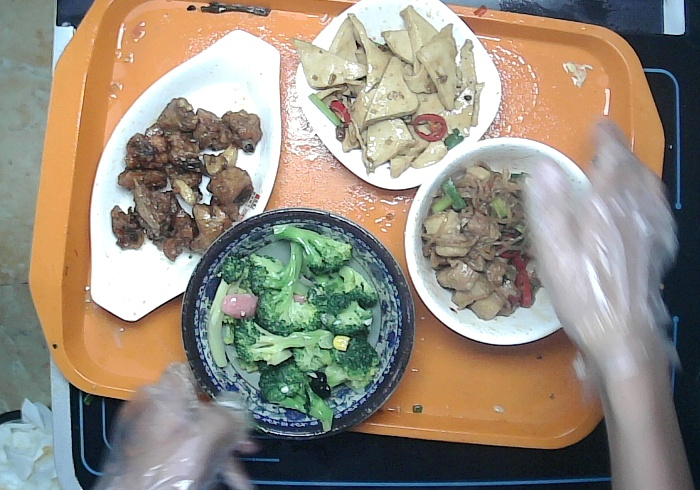ZNLD-Qing_Hua_Wan: (173, 202, 421, 445)
ZNLD-Si_Fang_Wan: (290, 1, 506, 200)
ZNLD-Tang_Wan: (399, 133, 597, 355)
ZNLD-Yu_Pan: (80, 27, 286, 328)
